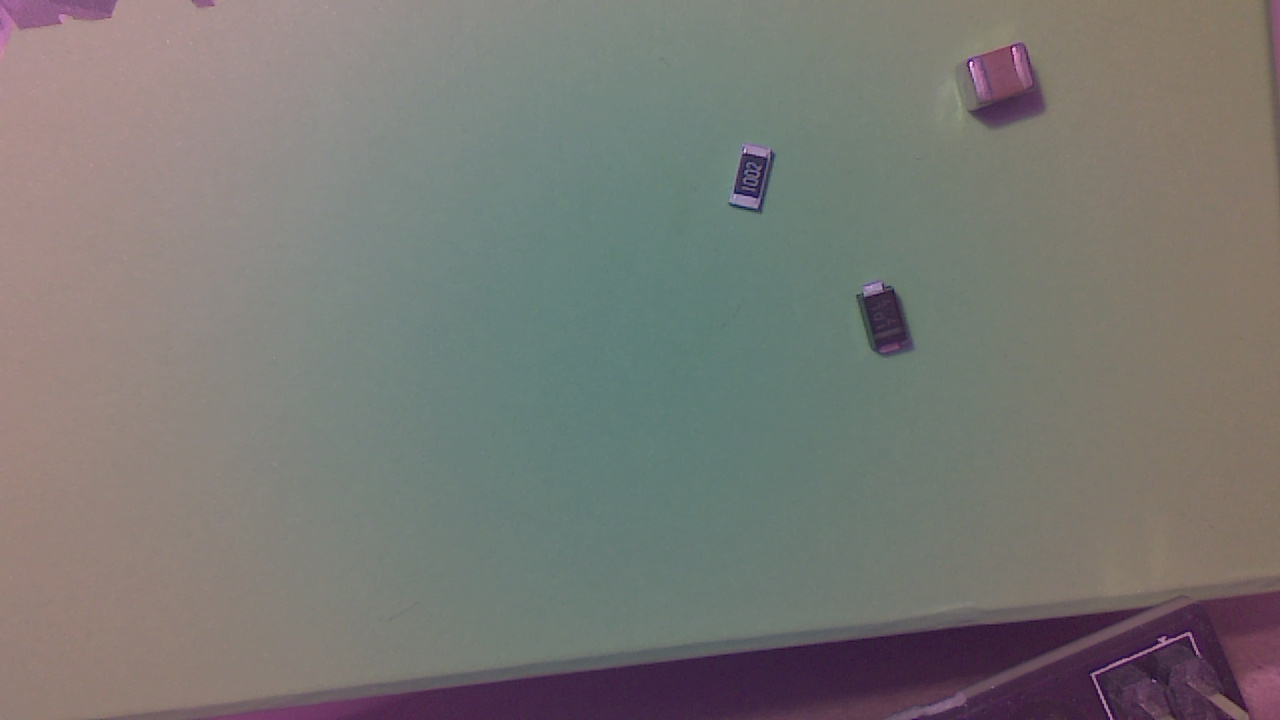Condensator: (959, 48, 1039, 115)
Diode: (860, 285, 914, 363)
Resistor: (736, 151, 783, 215)
